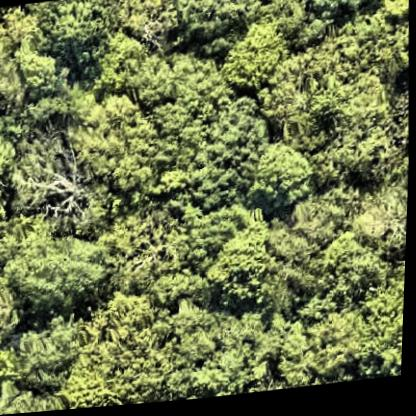tree-top: (55, 300, 177, 412), (2, 215, 110, 327), (69, 88, 166, 202), (181, 307, 287, 400), (188, 99, 272, 214), (92, 207, 186, 302), (266, 42, 348, 149), (133, 46, 221, 141), (10, 317, 102, 406), (12, 138, 101, 230), (282, 197, 360, 297), (202, 218, 283, 314), (342, 75, 411, 179), (295, 310, 385, 386), (173, 0, 299, 50), (339, 10, 412, 96), (37, 0, 123, 66), (217, 29, 287, 100), (314, 234, 382, 306), (359, 271, 407, 372), (252, 141, 316, 215), (348, 183, 410, 255), (0, 7, 32, 103), (310, 145, 360, 204), (126, 0, 180, 54), (97, 36, 145, 89), (15, 38, 60, 92), (0, 260, 22, 355), (303, 0, 361, 32), (0, 382, 53, 416), (0, 119, 18, 191), (359, 0, 410, 20), (0, 350, 23, 385)
